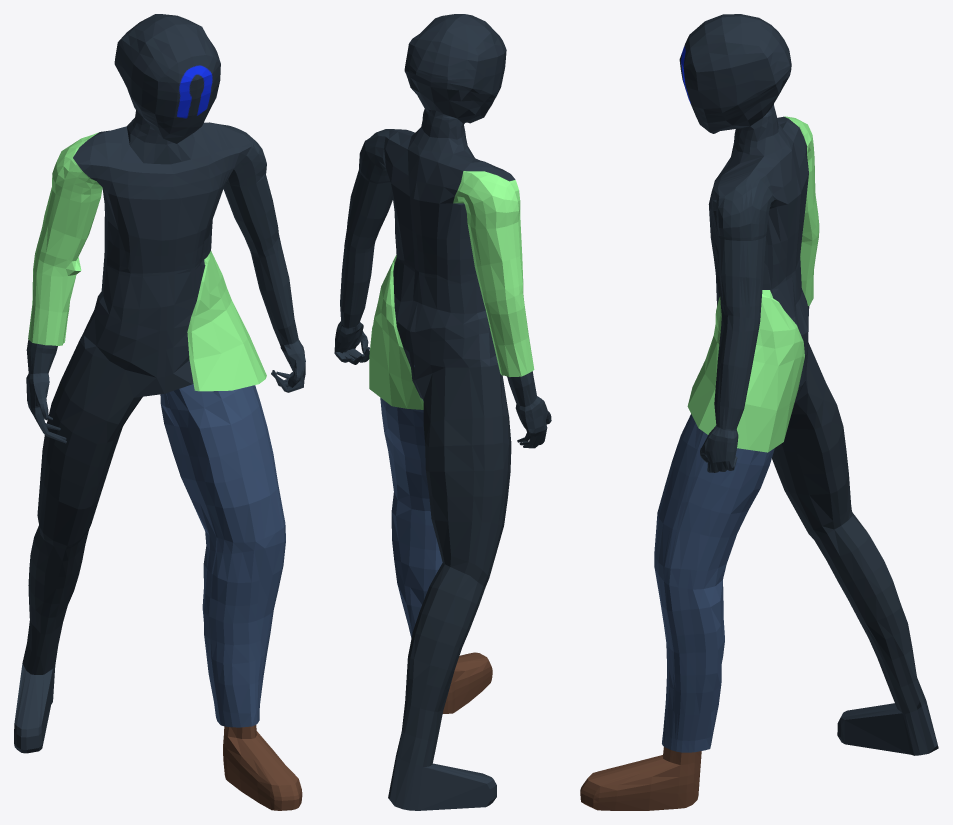
Rendered from Mar_Recover_000024.obj.
The picture shows the model from 3 angles, left to right: view 1: azimuth 30°, elevation 25°; view 2: azimuth 150°, elevation 25°; view 3: azimuth 270°, elevation 25°; orthographic projection. The views are drawn at different scales.
Parts seen in each view (by area): view 1: Cube.000_Cube.001; view 2: Cube.000_Cube.001; view 3: Cube.000_Cube.001.
Boxes of the visible parts, x1=… form: Cube.000_Cube.001: x1=14, y1=14, x2=305, y2=810; Cube.000_Cube.001: x1=334, y1=14, x2=551, y2=810; Cube.000_Cube.001: x1=580, y1=14, x2=938, y2=810.
Bounding box in the file's own units: 1.31 × 3.86 × 1.64.
